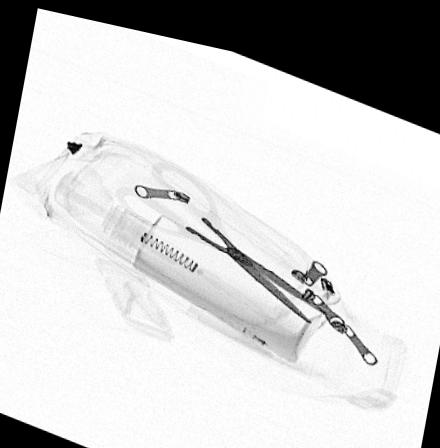Scissors: (111, 151, 331, 312)
